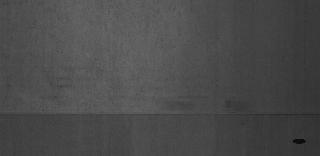punching hole: (291, 137, 307, 145)
welding line: (3, 106, 316, 120)
